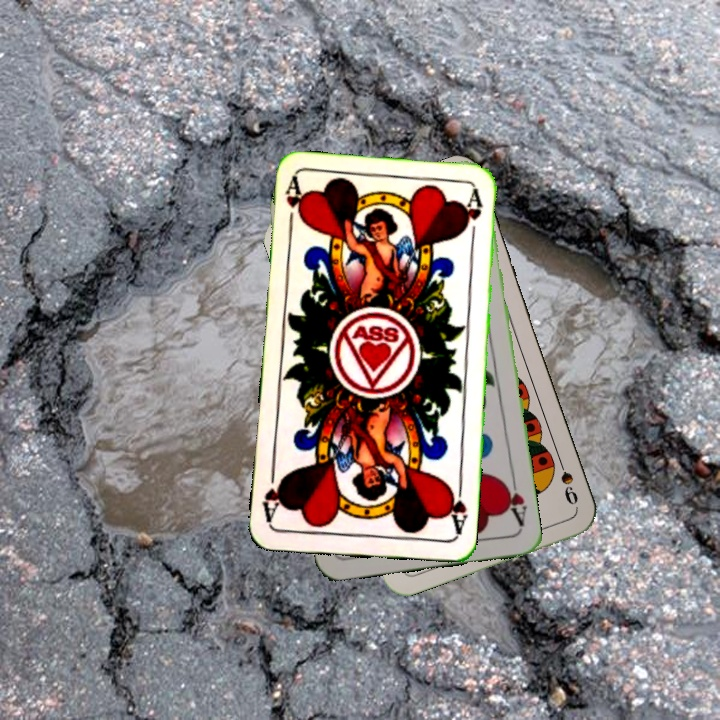HA: (498, 471, 530, 529), (442, 478, 470, 538), (280, 175, 308, 234)
S9: (553, 452, 581, 507)
